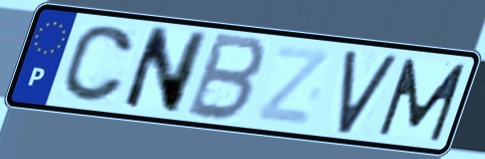B: (181, 29, 272, 125)
C: (58, 23, 138, 106)
M: (374, 55, 470, 144)
N: (117, 23, 212, 116)
V: (335, 49, 402, 137)
Z: (252, 43, 335, 130)
